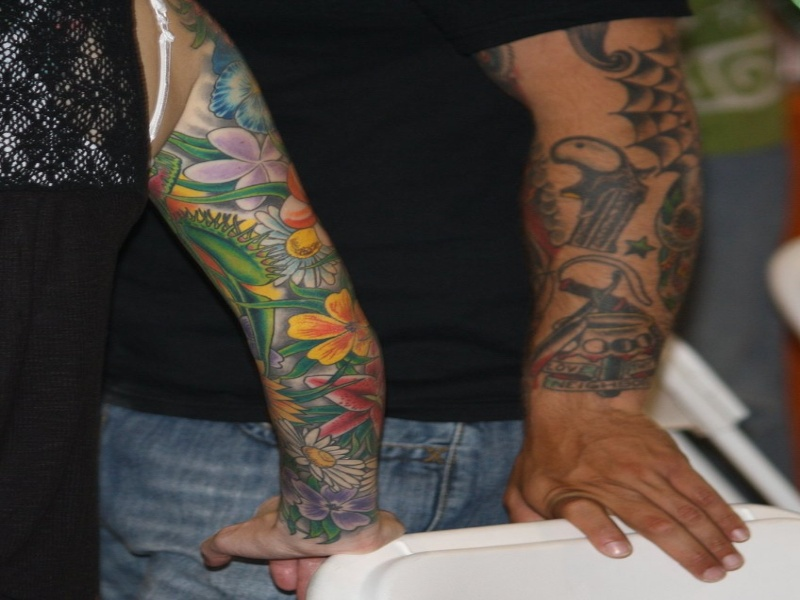person: (114, 1, 753, 583), (1, 4, 384, 562)
